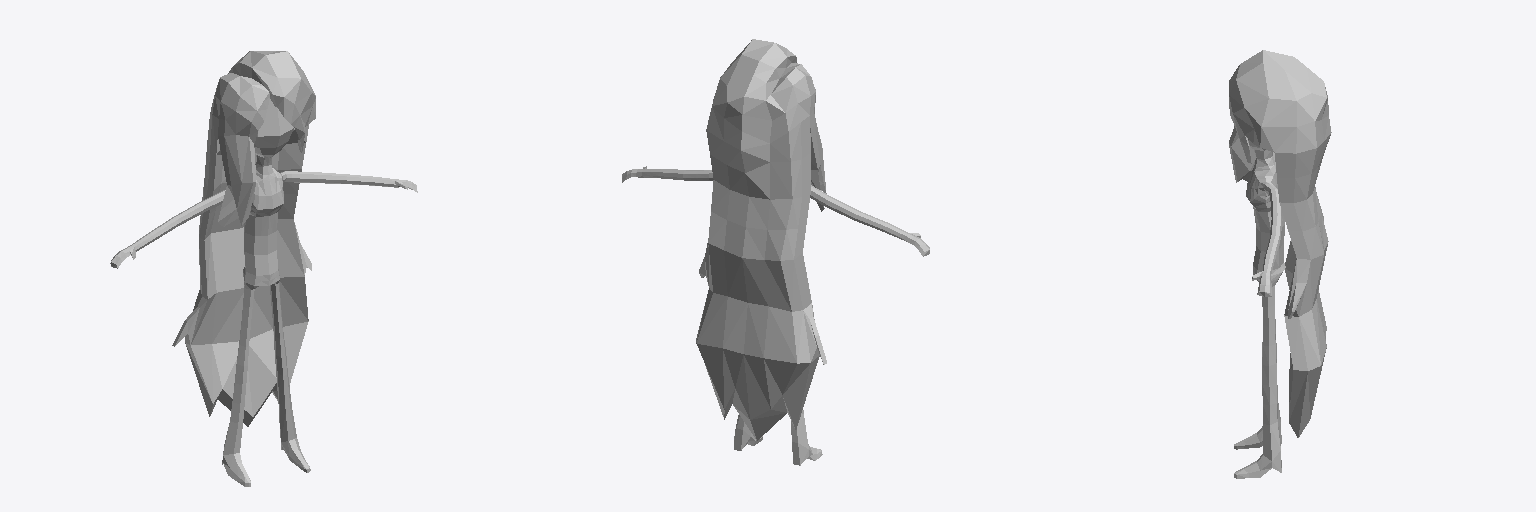
File: Marceline.obj
3 renders of one model, left to right at view 1: azimuth 30°, elevation 25°; view 2: azimuth 150°, elevation 25°; view 3: azimuth 270°, elevation 25°, orthographic.
Visible parts, largest first — view 1: Marcelinne_select_character; view 2: Marcelinne_select_character; view 3: Marcelinne_select_character.
Part boxes in pixels (x1,y1,x2,y2): Marcelinne_select_character: (110,51,417,486); Marcelinne_select_character: (622,39,929,465); Marcelinne_select_character: (1229,50,1331,478).
Size of the model in its own units: 24 by 30.87 by 6.97.